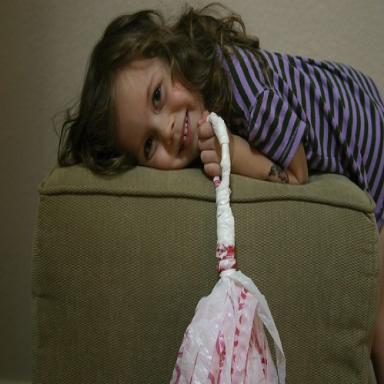plasticbag: (170, 113, 286, 383)
